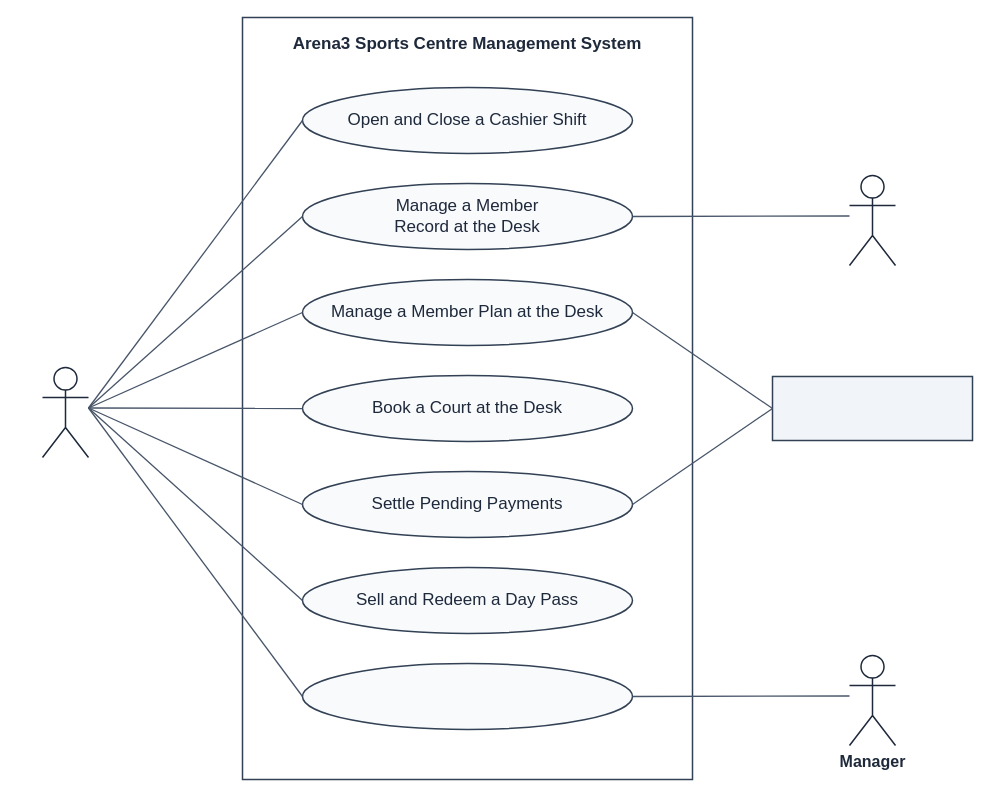
Image size: 991x798. Some labels were removed from this diagram. Here are the shapes that lost their labels. From the top down, the centre of each, then its label:
At pixel 872 220: "Coach".
At pixel 65 412: "Receptionist".
At pixel 872 408: "«actor» payOS".
At pixel 467 696: "Raise a Refund".
